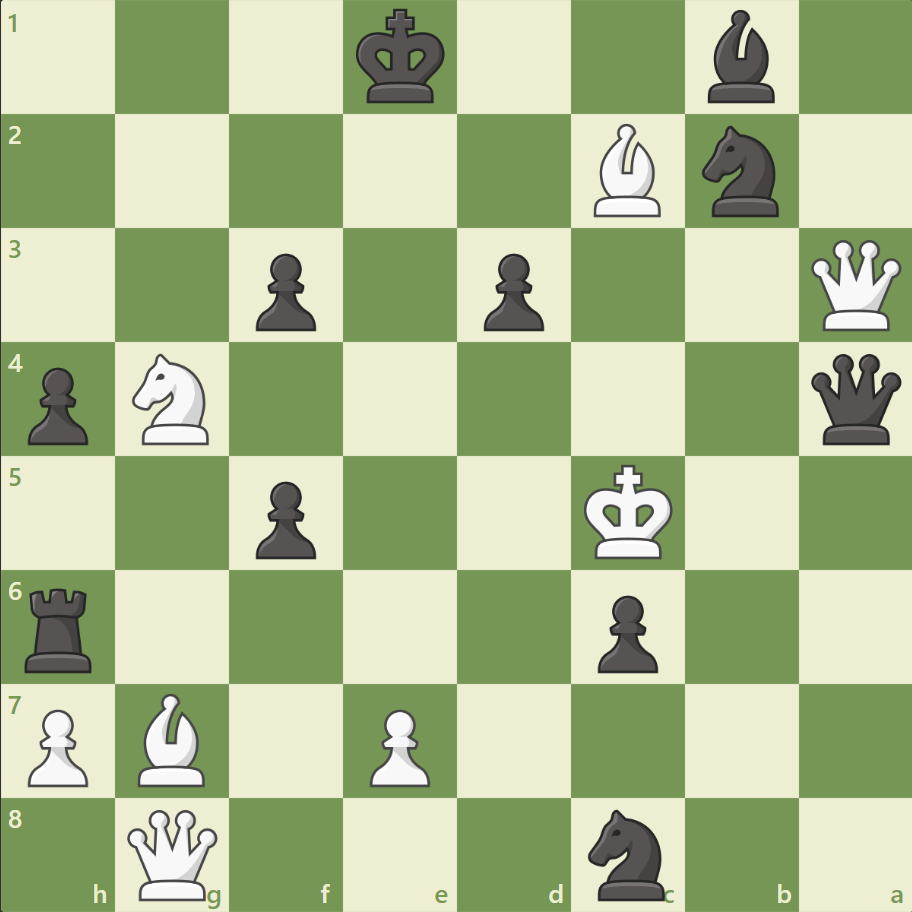B: (131, 687, 215, 790), (585, 120, 669, 222)
K: (579, 458, 679, 566)
N: (124, 348, 222, 450)
P: (20, 700, 95, 791), (361, 700, 435, 791)
Q: (124, 804, 223, 903), (805, 236, 904, 335)
b: (698, 6, 782, 109)
k: (351, 4, 451, 112)
n: (579, 802, 676, 904), (692, 121, 789, 223)
p: (247, 473, 322, 564), (20, 359, 95, 450), (474, 246, 549, 337), (247, 246, 322, 337), (588, 586, 662, 677)
q: (805, 349, 904, 449)
r: (19, 579, 102, 676)
